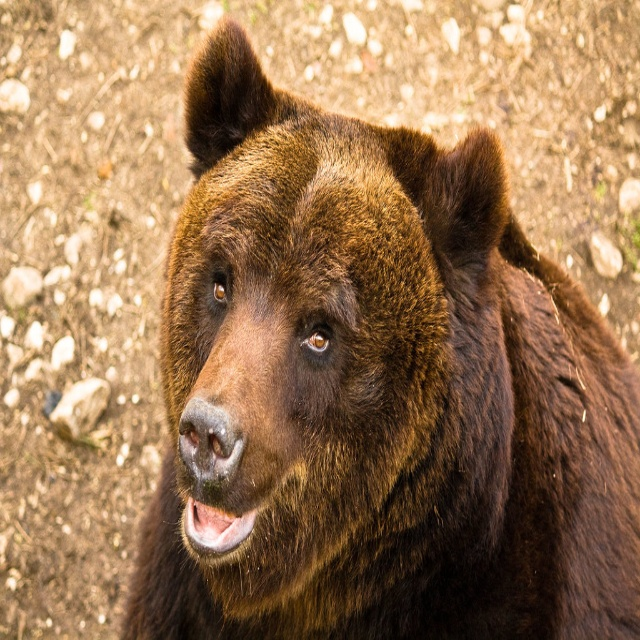Brown bear: (120, 15, 640, 640)
